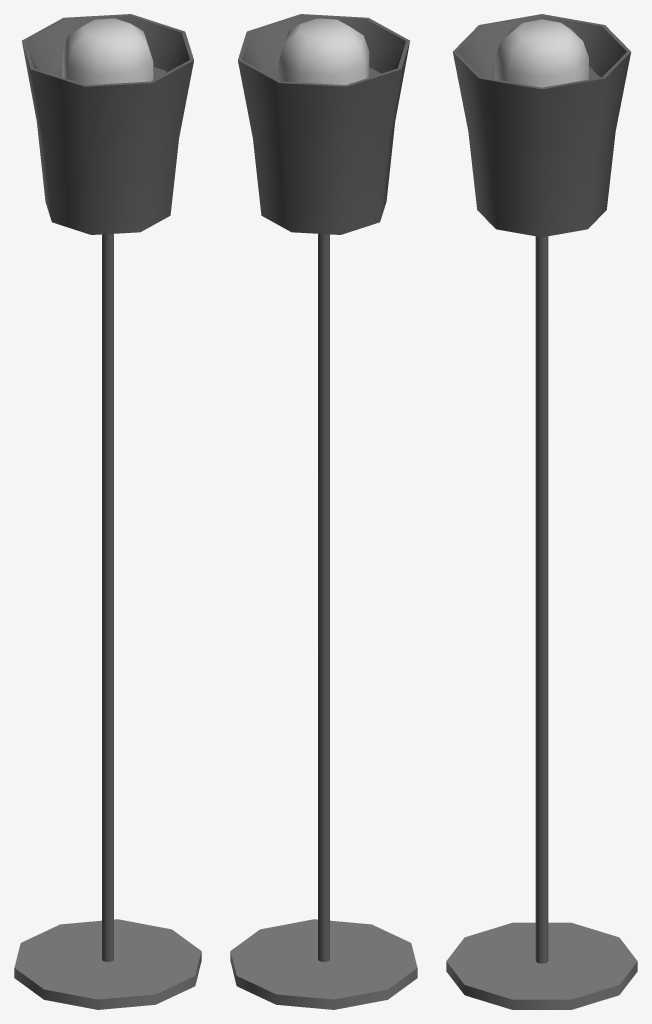
Rendered from Light_Floor1.glb.
The picture shows the model from 3 angles, left to right: view 1: azimuth 30°, elevation 25°; view 2: azimuth 150°, elevation 25°; view 3: azimuth 270°, elevation 25°; orthographic projection.
Visible parts, largest first — view 1: Light_Floor1; view 2: Light_Floor1; view 3: Light_Floor1.
Part boxes in pixels (<box>): Light_Floor1: <box>14,14,201,1009</box>; Light_Floor1: <box>230,14,417,1009</box>; Light_Floor1: <box>446,14,637,1009</box>.
Bounding box in the file's own units: 0.1374 × 0.784 × 0.1444.
Materials: 3 (3 with a texture image).
